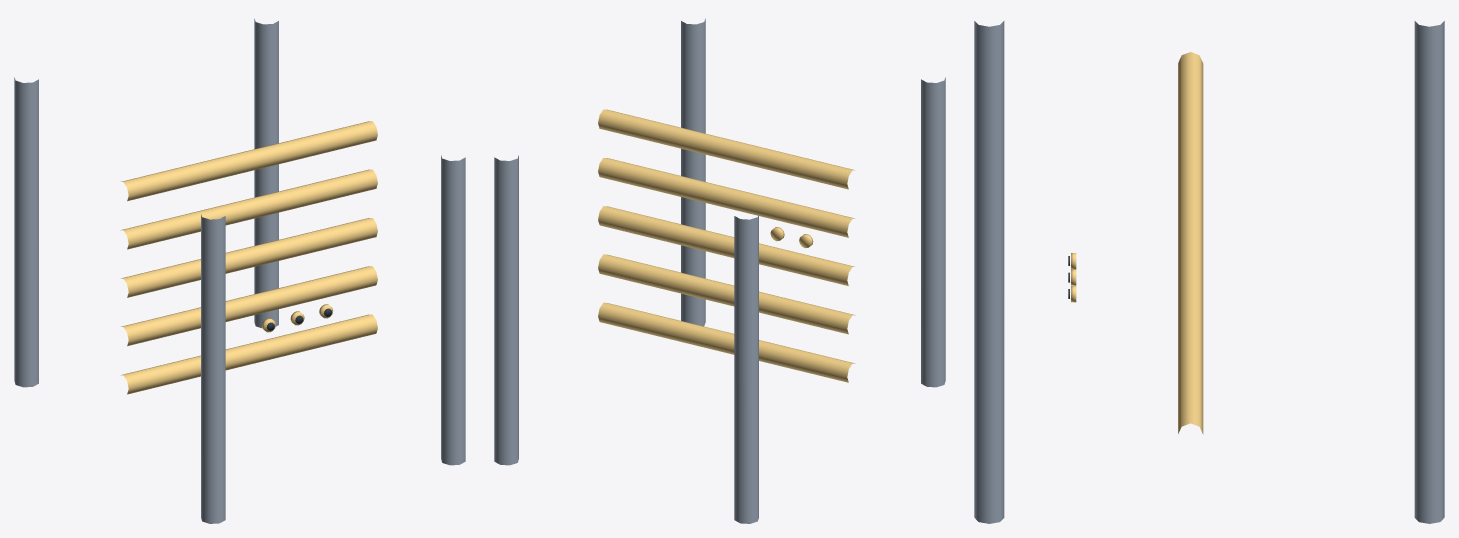
File: 26_L90_Aurora1PropellantTankSupportFrame.glb
3 views of the same model, side by side, from view 1: azimuth 30°, elevation 25°; view 2: azimuth 150°, elevation 25°; view 3: azimuth 270°, elevation 25° (orthographic). The views are drawn at different scales.
Parts seen in each view (by area): view 1: L90_Aurora1PropellantTankSupp_Part_0000, L90_Aurora1PropellantTankSupp_Part_0001; view 2: L90_Aurora1PropellantTankSupp_Part_0000, L90_Aurora1PropellantTankSupp_Part_0001; view 3: L90_Aurora1PropellantTankSupp_Part_0000, L90_Aurora1PropellantTankSupp_Part_0001.
Part boxes in pixels (left/top/right/bottom): L90_Aurora1PropellantTankSupp_Part_0000: left=14, top=18, right=465, bottom=523; L90_Aurora1PropellantTankSupp_Part_0001: left=121, top=121, right=377, bottom=394; L90_Aurora1PropellantTankSupp_Part_0000: left=494, top=18, right=945, bottom=523; L90_Aurora1PropellantTankSupp_Part_0001: left=598, top=109, right=855, bottom=382; L90_Aurora1PropellantTankSupp_Part_0000: left=974, top=21, right=1444, bottom=523; L90_Aurora1PropellantTankSupp_Part_0001: left=1178, top=52, right=1203, bottom=434.
Size of the model in its own units: 2.84 by 3.15 by 3.74.
